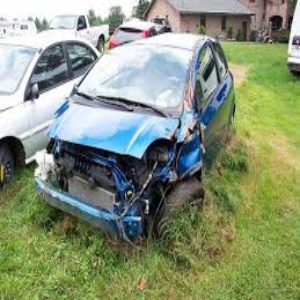bonnet: (52, 108, 168, 166)
bumper: (37, 168, 157, 236)
